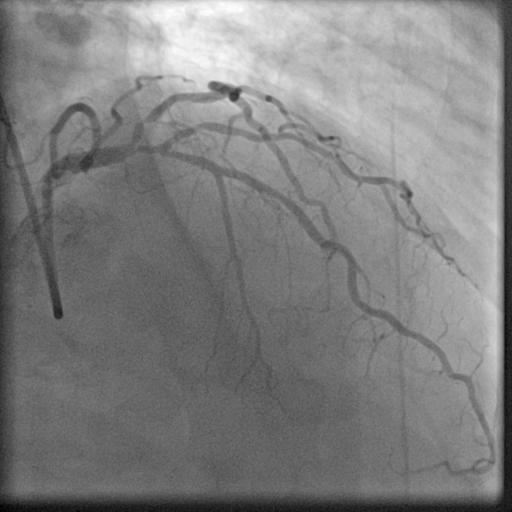Stenosis: (130, 112, 153, 137)
